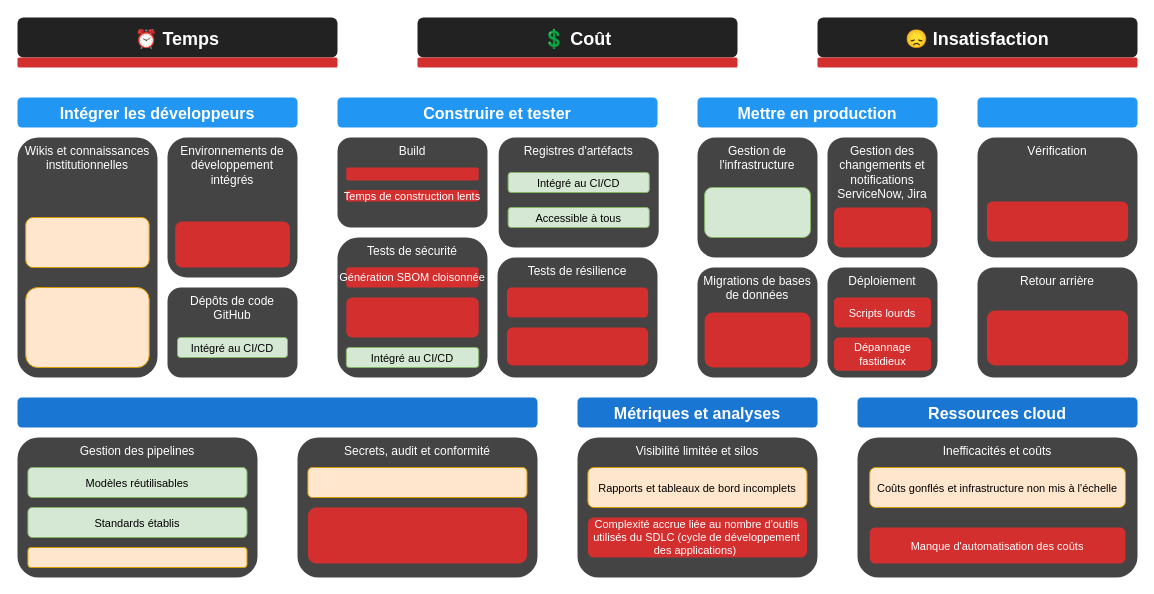
Image size: 1154x594. Some labels were removed from this diagram. Here are the shapes that lost their labels. From the top down, the centre of each, then its label:
At point 1057,112: "Vérifier".
At point 412,173: "Surcharge de maintenance".
At point 757,212: "Infra-as-code gouvernée".
At point 882,227: "Flux d'approbation manuels".
At point 1057,221: "Manuelle".
At point 87,242: "Longs temps d'intégration des développeurs".
At point 232,244: "« Fonctionne sur ma machine »".
At point 412,317: "Manque de contexte pour la remédiation".
At point 577,302: "Outils de niche/OSS".
At point 87,327: "Adoption lente des nouveaux services".
At point 577,346: "Difficile de simuler des scénarios de panne".
At point 757,339: "Dépendances entre équipes".
At point 1057,337: "Correctif / manuel".
At point 277,412: "Gouvernance et sécurité".
At point 417,482: "Traçabilité limitée".
At point 416,535: "Application manuelle des politiques".
At point 137,557: "Effort de maintenance modéré".
